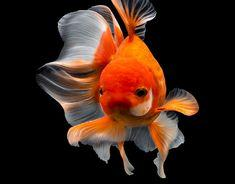goldfish: (56, 16, 205, 150)
